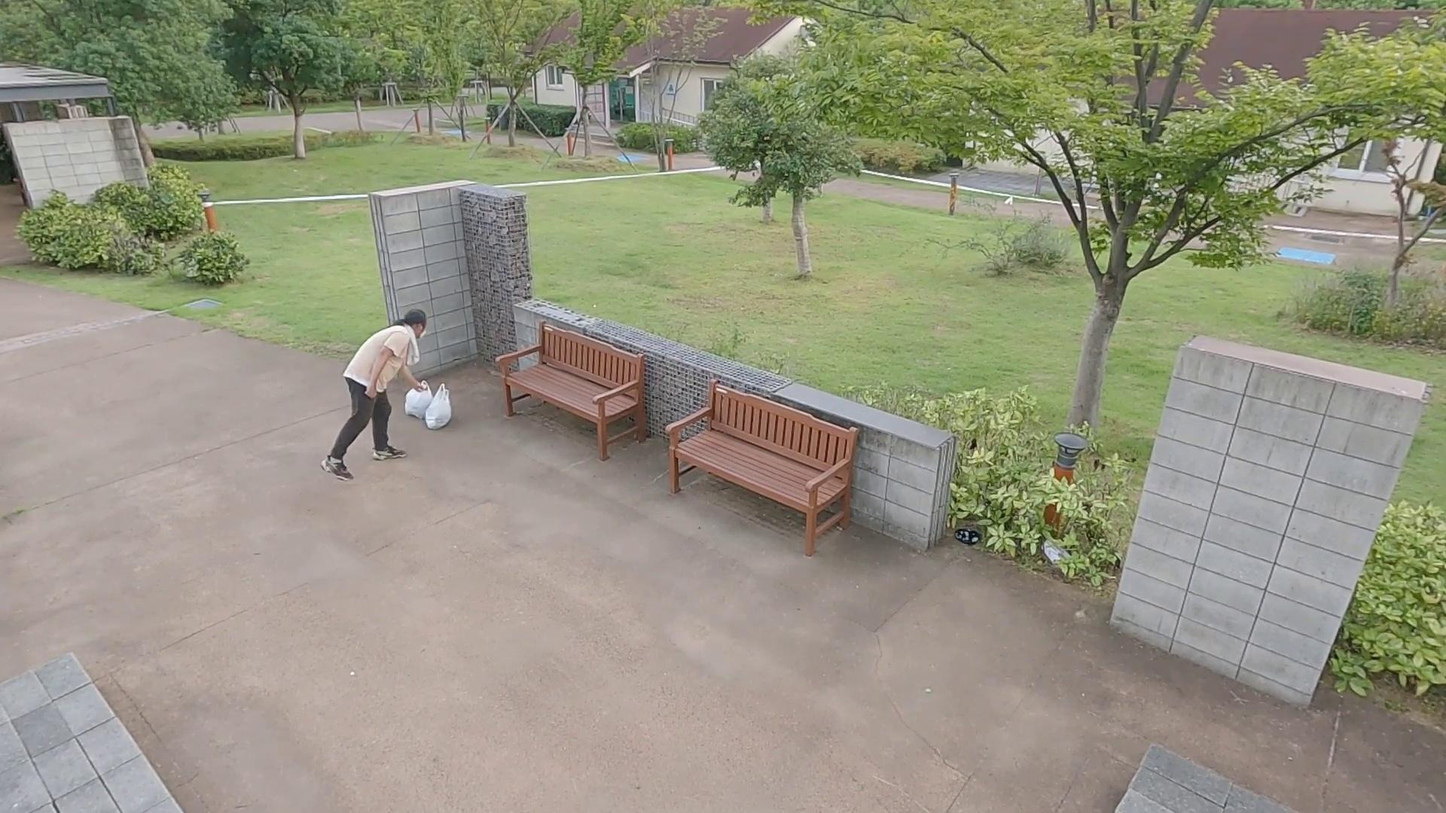person: (318, 309, 431, 484)
trash: (422, 383, 456, 431), (404, 380, 432, 419), (1040, 540, 1073, 567), (953, 527, 981, 545)
